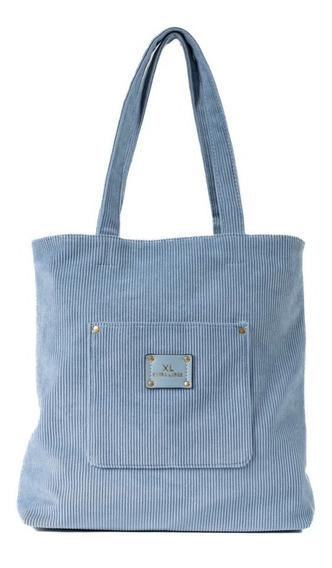cartera: (15, 28, 315, 534)
